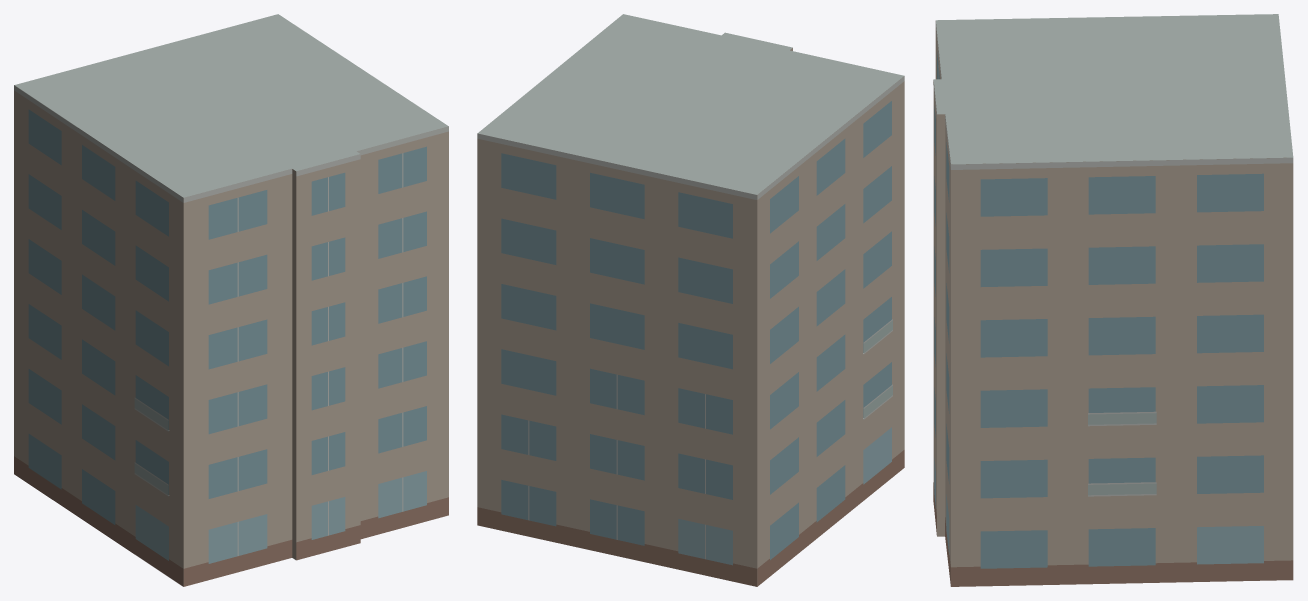
File: survey-upis-32739584.glb
3 views of the same model, side by side, from view 1: azimuth 30°, elevation 25°; view 2: azimuth 150°, elevation 25°; view 3: azimuth 270°, elevation 25° (orthographic). The views are drawn at different scales.
Parts seen in each view (by area): view 1: survey-upis-32739584.tmp; view 2: survey-upis-32739584.tmp; view 3: survey-upis-32739584.tmp.
Boxes of the visible parts, <box> form: survey-upis-32739584.tmp: <box>14,14,448,586</box>; survey-upis-32739584.tmp: <box>477,14,904,586</box>; survey-upis-32739584.tmp: <box>933,14,1293,586</box>.
Bounding box in the file's own units: 13.98 × 18.3 × 14.14.
